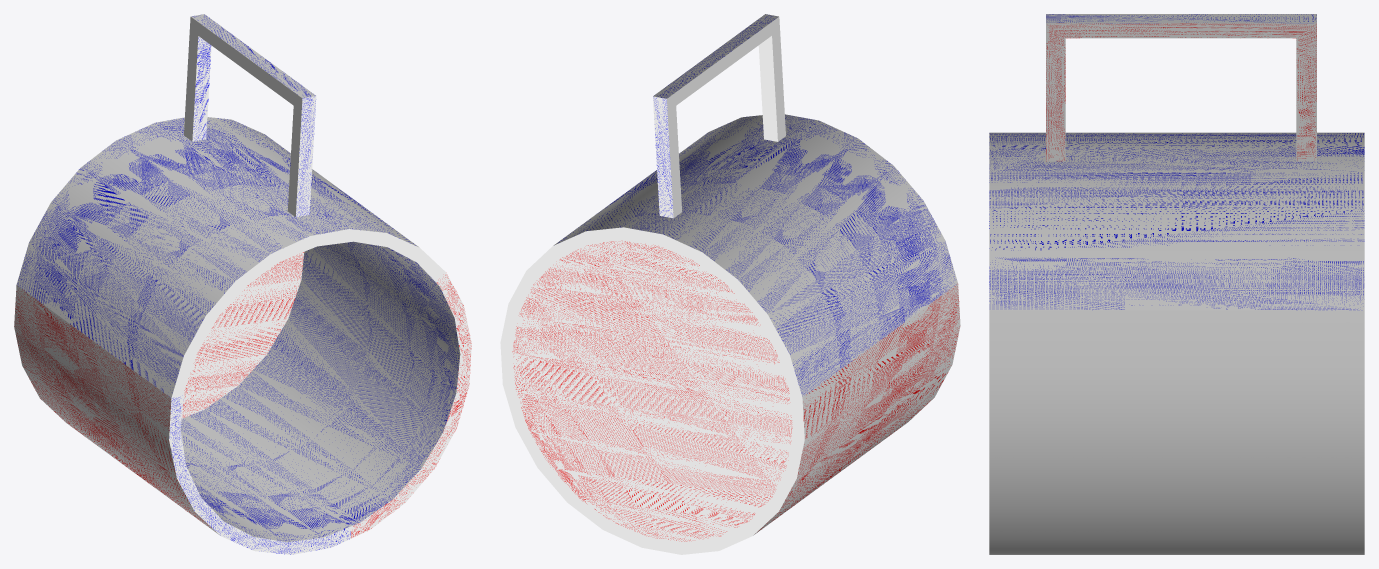
File: model_align.obj
3 renders of one model, left to right at view 1: azimuth 30°, elevation 25°; view 2: azimuth 150°, elevation 25°; view 3: azimuth 270°, elevation 25°, orthographic. The views are drawn at different scales.
Visible parts, largest first — view 1: mesh1_mesh1-geometry; view 2: mesh1_mesh1-geometry; view 3: mesh1_mesh1-geometry.
Boxes of the visible parts, bbox=[...] form: mesh1_mesh1-geometry: bbox=[14, 14, 471, 554]; mesh1_mesh1-geometry: bbox=[500, 14, 960, 554]; mesh1_mesh1-geometry: bbox=[989, 14, 1364, 554].
Bounding box in the file's own units: 0.0932 × 0.1276 × 0.0826.
